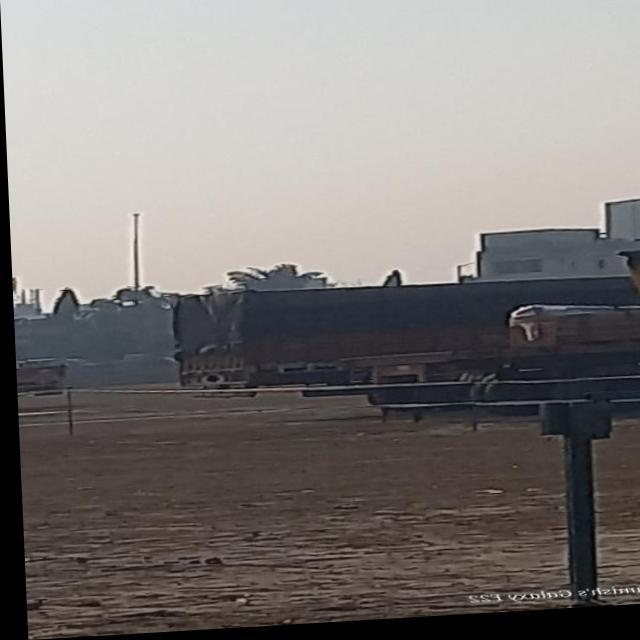covered: (171, 264, 640, 382), (493, 298, 640, 398)
